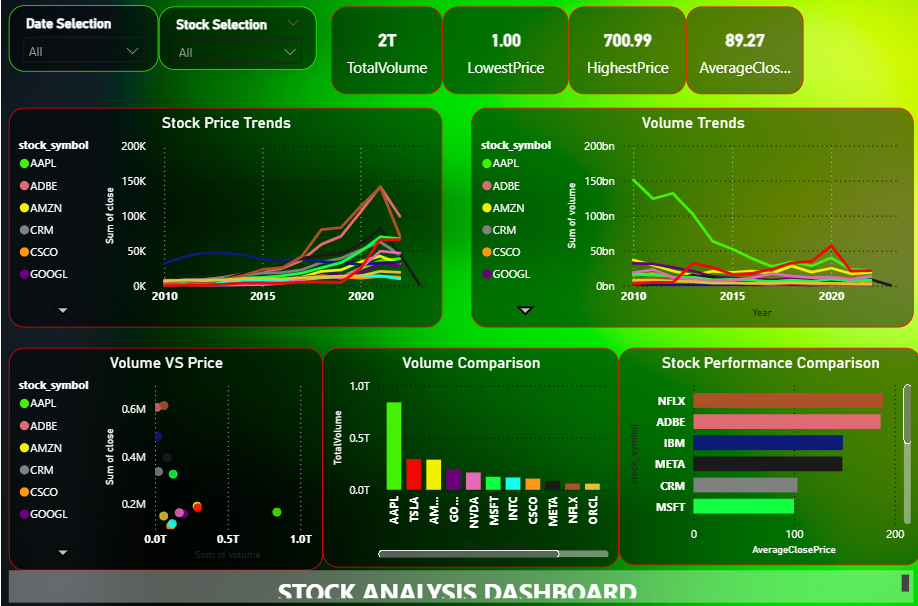

The page's visual inventory and layout, read from the dashboard file:
{"tool":"powerbi","page":{"name":"Page 1","canvas":[1280,720],"ordinal":0},"visuals":[{"type":"slicer","fields":{"Values":["big_tech_stock_prices.date"]},"box":[150.5,33.9,162.7,71.9],"z":0},{"type":"slicer","fields":{"Values":["big_tech_stock_prices.stock_symbol"]},"box":[313.3,35.3,170.9,69.2],"z":1000},{"type":"card","fields":{"Values":["big_tech_stock_prices.HighestPrice"]},"box":[758.1,35.3,127.5,94.9],"z":2000},{"type":"card","fields":{"Values":["big_tech_stock_prices.TotalVolume"]},"box":[500.4,35.3,120.7,94.9],"z":3000},{"type":"card","fields":{"Values":["big_tech_stock_prices.AverageClosePrice"]},"box":[885.6,35.3,127.5,94.9],"z":4000},{"type":"card","fields":{"Values":["big_tech_stock_prices.LowestPrice"]},"box":[621.2,35.3,137,94.9],"z":5000},{"type":"lineChart","title":"Volume Trends","fields":{"Category":["big_tech_stock_prices.date.Variation.Date Hierarchy.Year","big_tech_stock_prices.date.Variation.Date Hierarchy.Quarter","big_tech_stock_prices.date.Variation.Date Hierarchy.Month","big_tech_stock_prices.date.Variation.Date Hierarchy.Day"],"Series":["big_tech_stock_prices.stock_symbol"],"Y":["Sum(big_tech_stock_prices.volume)"]},"box":[652.3,145.1,480.1,238.7],"z":6000},{"type":"lineChart","title":"Stock Price Trends","fields":{"Category":["big_tech_stock_prices.date.Variation.Date Hierarchy.Year","big_tech_stock_prices.date.Variation.Date Hierarchy.Quarter","big_tech_stock_prices.date.Variation.Date Hierarchy.Month","big_tech_stock_prices.date.Variation.Date Hierarchy.Day"],"Y":["Sum(big_tech_stock_prices.close)"],"Series":["big_tech_stock_prices.stock_symbol"]},"box":[150.5,145.1,470.6,238.7],"z":7000},{"type":"columnChart","title":"Volume Comparison","fields":{"Y":["big_tech_stock_prices.TotalVolume"],"Category":["big_tech_stock_prices.stock_symbol"]},"box":[491,405.5,321.4,238.7],"z":8000},{"type":"barChart","title":"Stock Performance Comparison","fields":{"Category":["big_tech_stock_prices.stock_symbol"],"Y":["big_tech_stock_prices.AverageClosePrice"]},"box":[812.4,405.5,328.2,236],"z":9000},{"type":"scatterChart","title":"Volume VS Price","fields":{"X":["Sum(big_tech_stock_prices.volume)"],"Y":["Sum(big_tech_stock_prices.close)"],"Series":["big_tech_stock_prices.stock_symbol"]},"box":[150.5,405.5,340.4,241.4],"z":10000},{"type":"textbox","box":[150.5,646.9,981.9,35.3],"z":11000}]}

Visuals, with their boxes on the page's 1280x720 design canvas (x1, y1, x2, y2). These are canvas units, not pixel positions in the 918x606 screenshot, which may show the page scaled, cropped or inside an application window:
slicer - big_tech_stock_prices.date: detection(150, 34, 313, 106)
slicer - big_tech_stock_prices.stock_symbol: detection(313, 35, 484, 104)
card - big_tech_stock_prices.HighestPrice: detection(758, 35, 886, 130)
card - big_tech_stock_prices.TotalVolume: detection(500, 35, 621, 130)
card - big_tech_stock_prices.AverageClosePrice: detection(886, 35, 1013, 130)
card - big_tech_stock_prices.LowestPrice: detection(621, 35, 758, 130)
"Volume Trends" lineChart: detection(652, 145, 1132, 384)
"Stock Price Trends" lineChart: detection(150, 145, 621, 384)
"Volume Comparison" columnChart: detection(491, 406, 812, 644)
"Stock Performance Comparison" barChart: detection(812, 406, 1141, 642)
"Volume VS Price" scatterChart: detection(150, 406, 491, 647)
textbox: detection(150, 647, 1132, 682)
